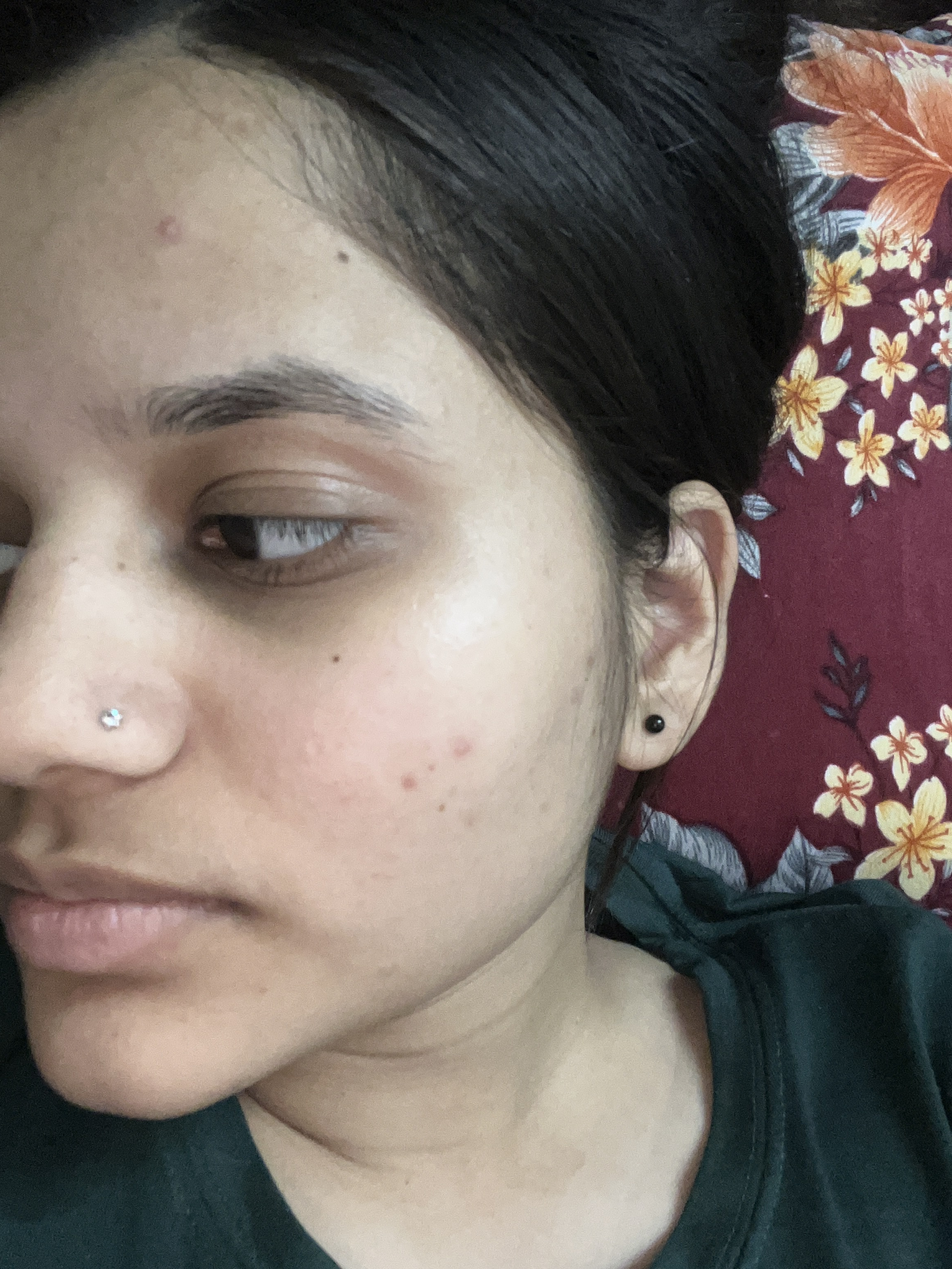papule: (446, 739, 490, 760)
